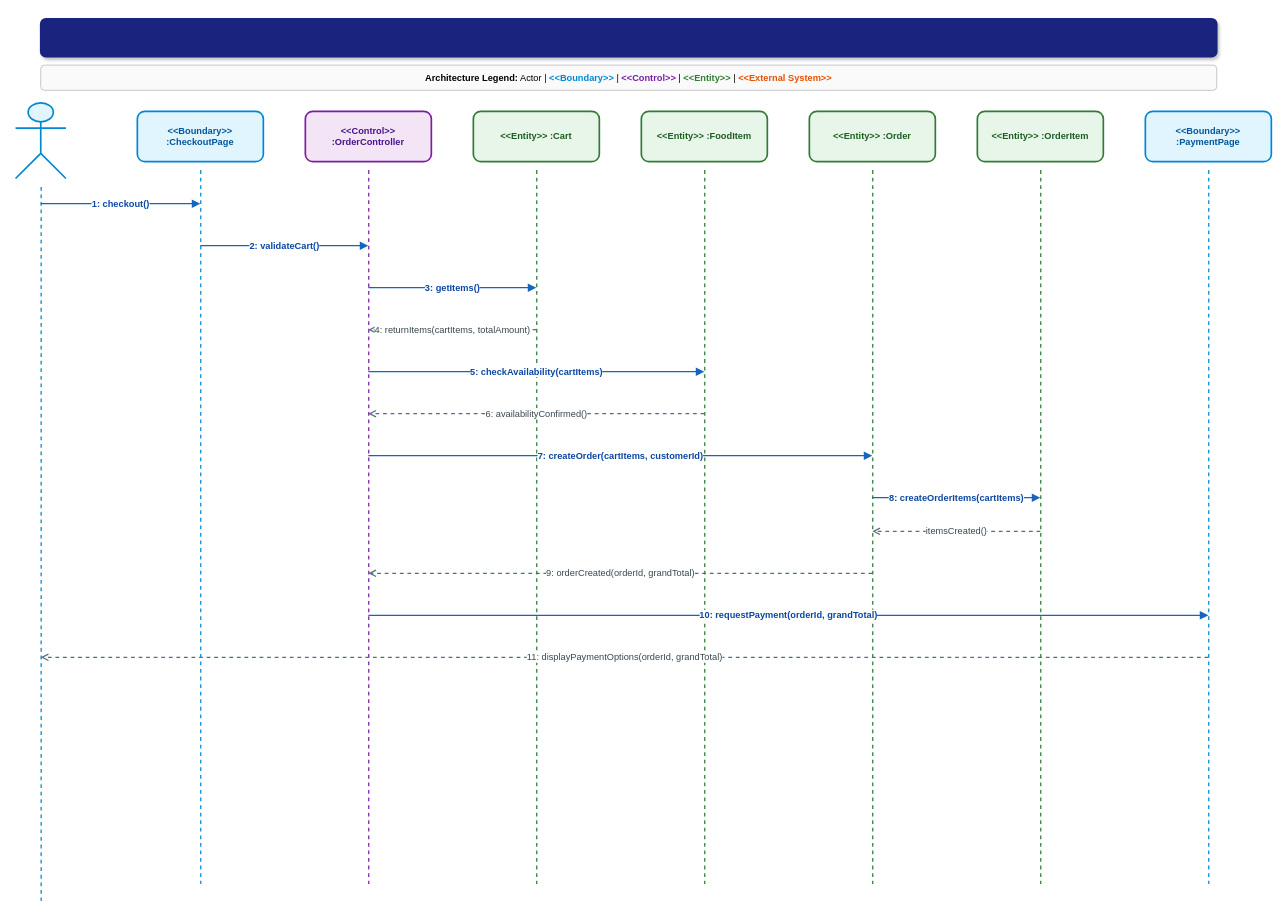
This 1286x916 diagram has some shape labels left out. The shapes that lost their labels are listed below. From the top down, each one's centre as x and y in pixels, then its label:
the point at 629,38: ONLINE FOOD ORDERING SYSTEM — PLACE ORDER SEQUENCE DIAGRAM
the point at 40,140: Customer
